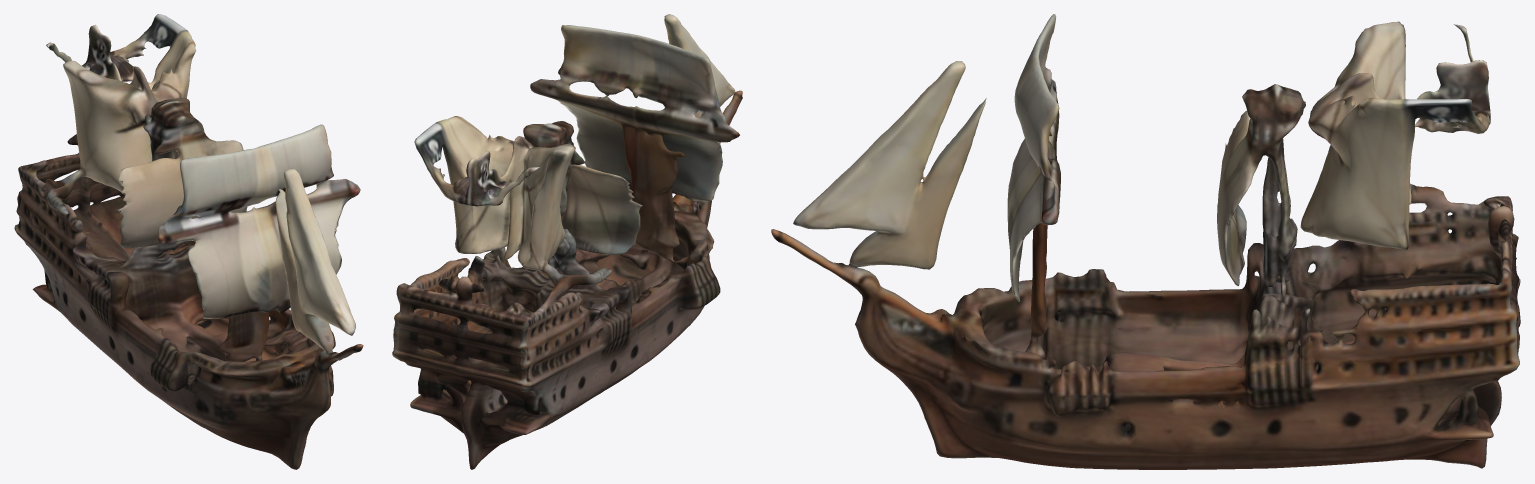
Rendered from advanced_pirate_ship.glb.
3 views of the same model, side by side, from view 1: azimuth 30°, elevation 25°; view 2: azimuth 150°, elevation 25°; view 3: azimuth 270°, elevation 25° (orthographic). The views are drawn at different scales.
Visible parts, largest first — view 1: tripo_node_b48eff74-8545-4939-8bc2-f5f38eb72a44; view 2: tripo_node_b48eff74-8545-4939-8bc2-f5f38eb72a44; view 3: tripo_node_b48eff74-8545-4939-8bc2-f5f38eb72a44.
Boxes of the visible parts, left/top/right/bottom form: tripo_node_b48eff74-8545-4939-8bc2-f5f38eb72a44: left=14, top=14, right=363, bottom=469; tripo_node_b48eff74-8545-4939-8bc2-f5f38eb72a44: left=392, top=14, right=742, bottom=469; tripo_node_b48eff74-8545-4939-8bc2-f5f38eb72a44: left=771, top=14, right=1520, bottom=469.
Bounding box in the file's own units: 0.3563 × 0.5116 × 0.8501.
Materials: 1 (1 with a texture image).
